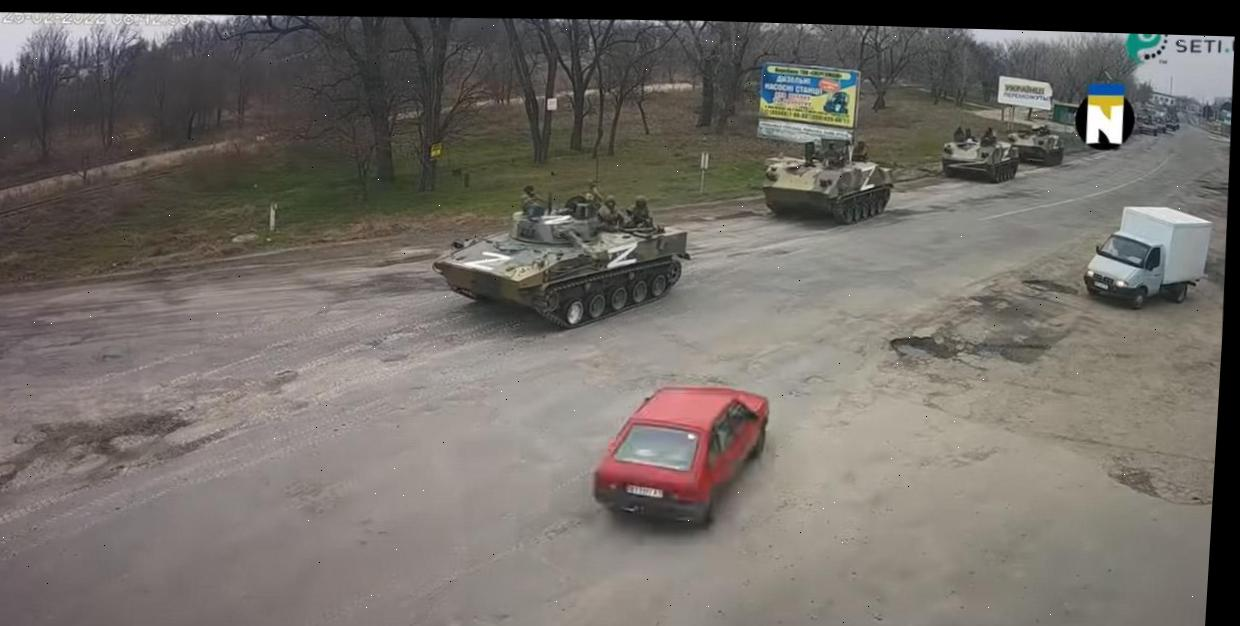car: (589, 367, 777, 534), (1078, 195, 1217, 314)
person: (511, 180, 547, 224), (623, 190, 658, 229), (596, 192, 623, 234), (949, 121, 970, 147), (981, 124, 997, 148)
tank: (425, 175, 694, 339), (754, 136, 897, 235), (938, 119, 1023, 198), (1015, 116, 1071, 172)
